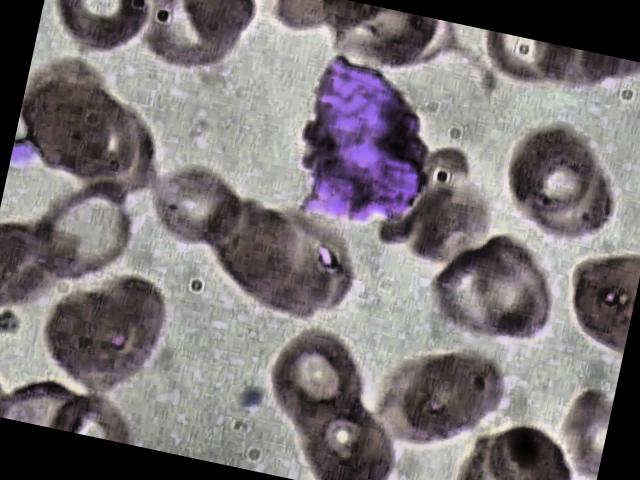Platelets: (228, 382, 272, 418), (10, 132, 44, 170)
RBC: (25, 249, 182, 411), (23, 166, 146, 298), (255, 324, 379, 442), (420, 238, 548, 346), (390, 337, 508, 454), (496, 111, 612, 228), (287, 384, 408, 480), (552, 238, 640, 352), (144, 159, 242, 253), (39, 0, 163, 63), (472, 413, 588, 480), (471, 32, 572, 101), (172, 0, 267, 67), (554, 383, 614, 480)
WBC: (258, 40, 476, 250)
